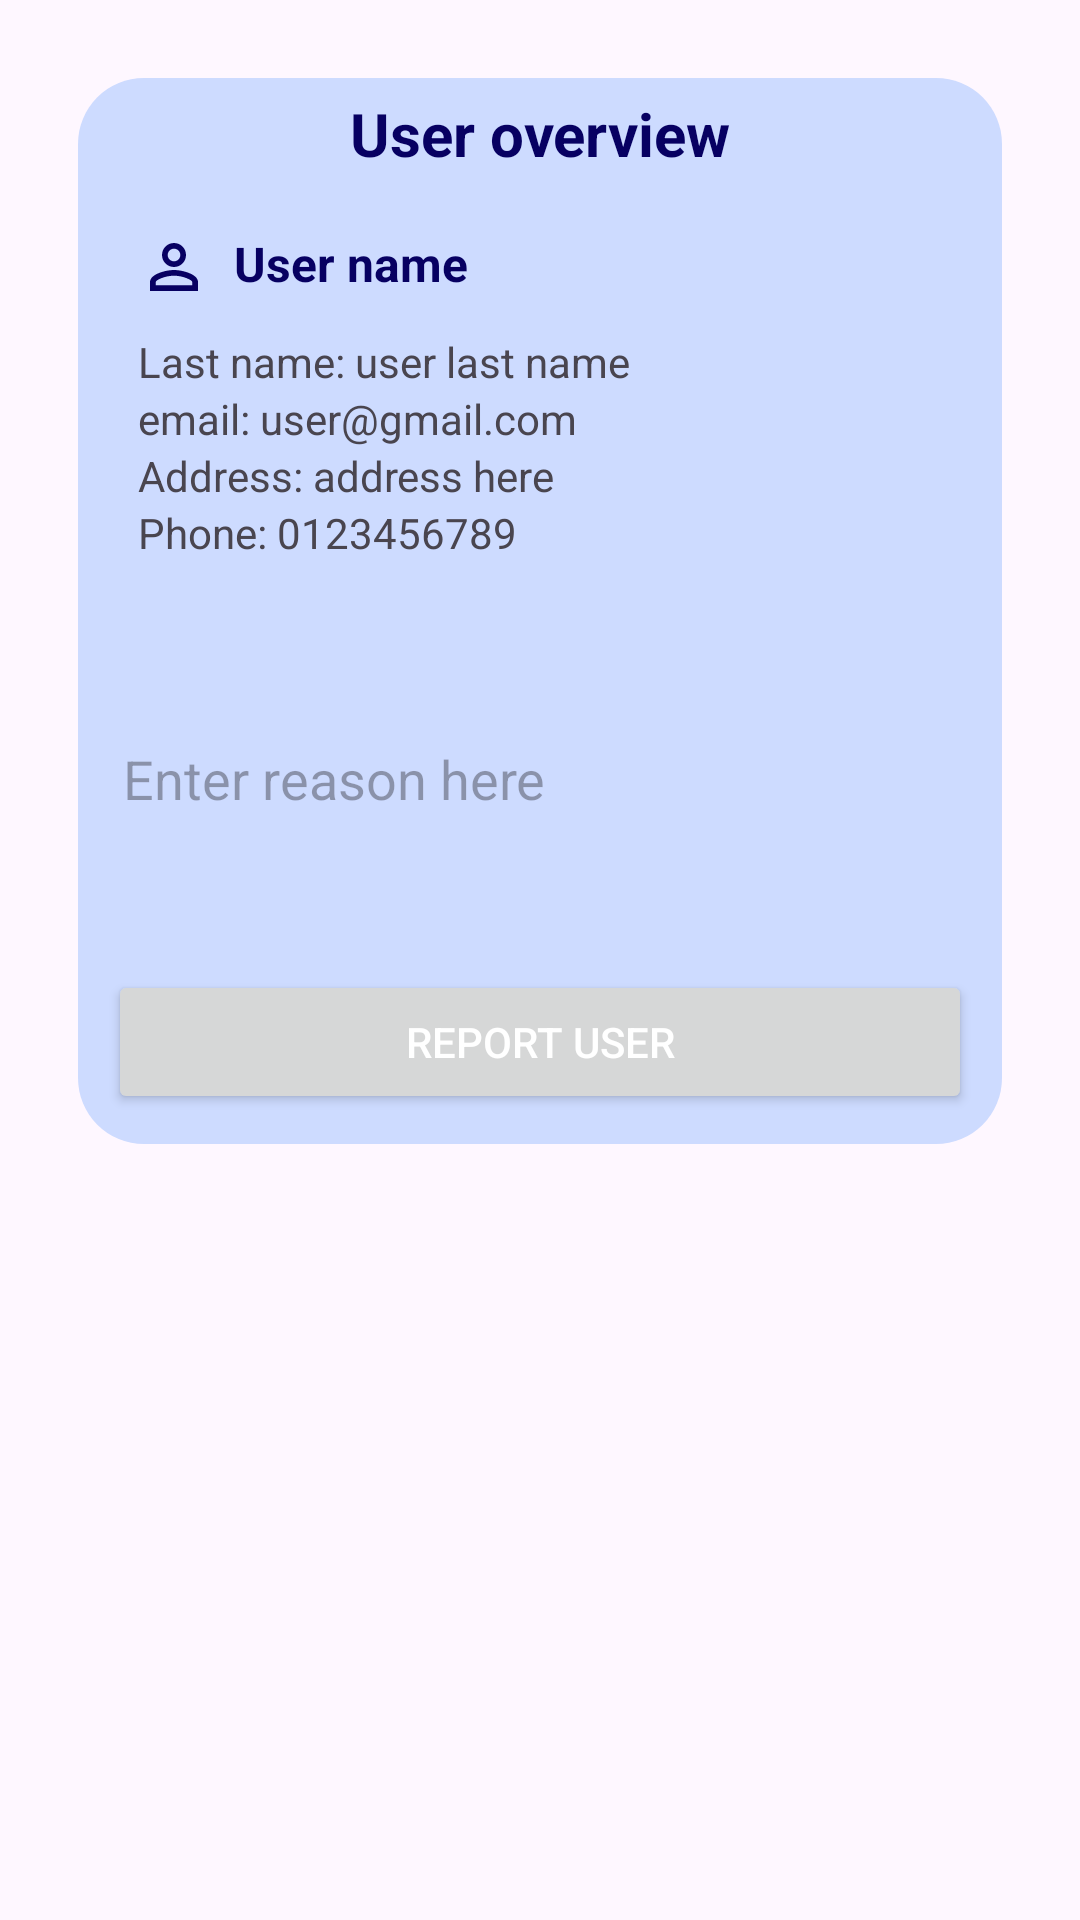

Where to tap for icons on this 1080 × 1920 app screen, as [x,y]:
Owner Icon: [174,267]
